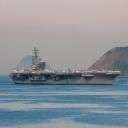Portanaves: (10, 46, 123, 86)
